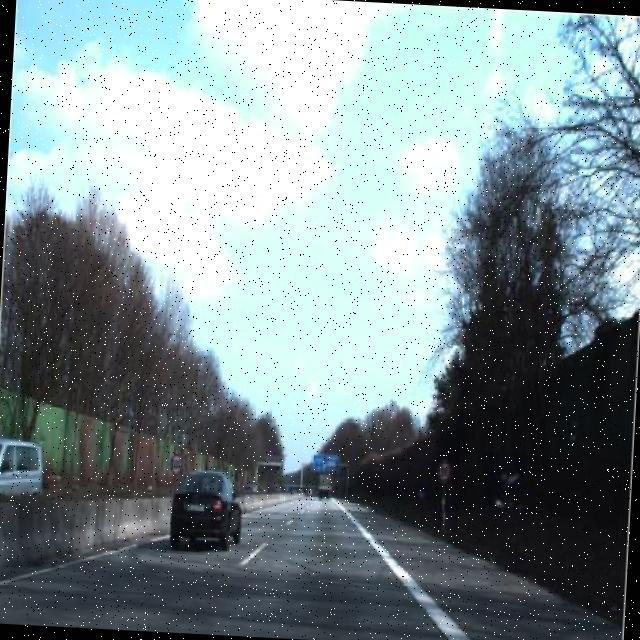Ograniczenie predkosci do 100: (434, 456, 454, 484), (166, 451, 184, 479)
